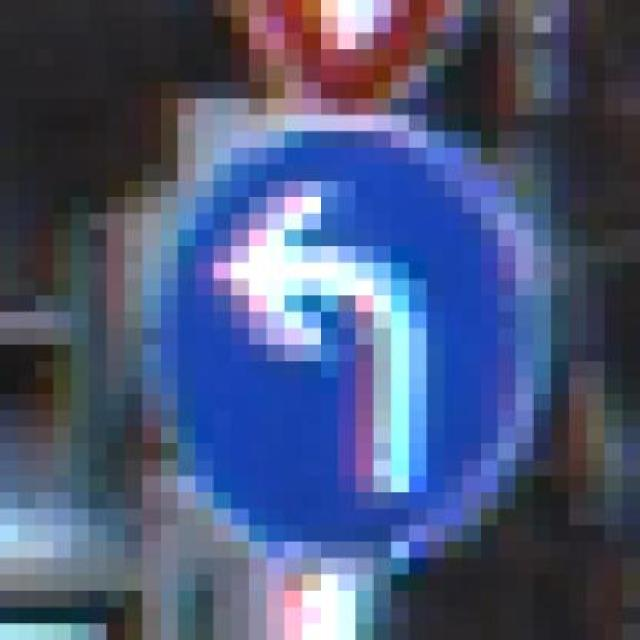Turn left ahead: (142, 65, 569, 558)
